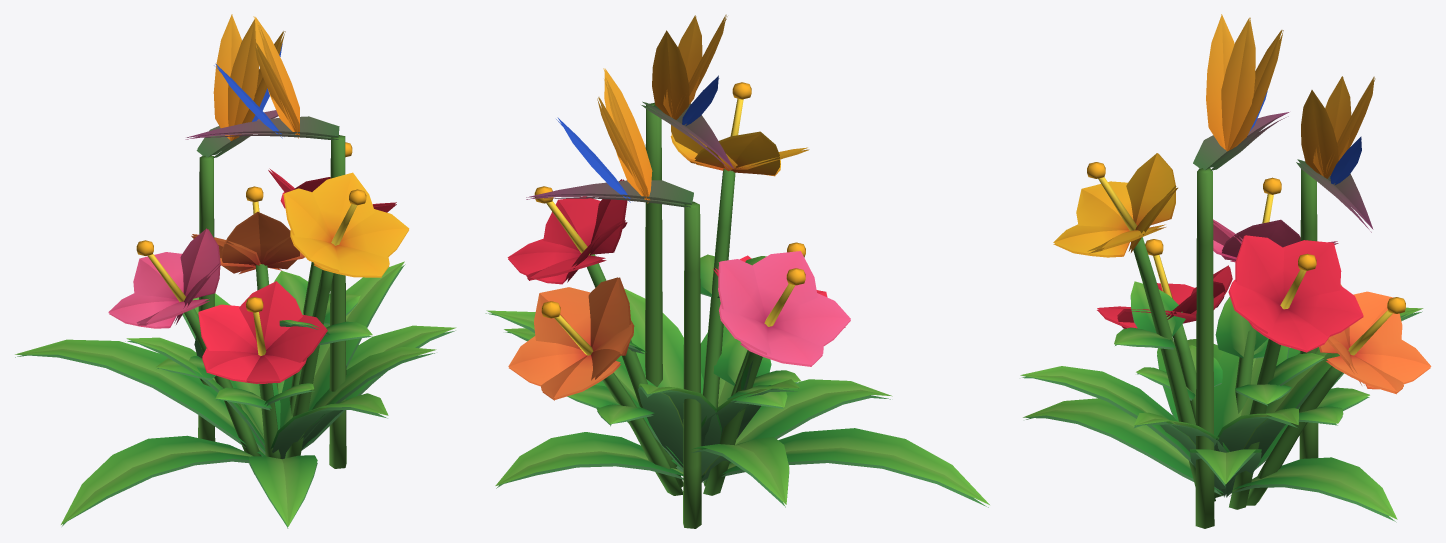
The model's file is flowers.glb.
3 renders of one model, left to right at view 1: azimuth 30°, elevation 25°; view 2: azimuth 150°, elevation 25°; view 3: azimuth 270°, elevation 25°, orthographic. The views are drawn at different scales.
Visible parts, largest first — view 1: flowers_mesh; view 2: flowers_mesh; view 3: flowers_mesh.
Boxes of the visible parts, bbox=[...] form: flowers_mesh: bbox=[15, 14, 456, 528]; flowers_mesh: bbox=[485, 14, 989, 528]; flowers_mesh: bbox=[1020, 14, 1431, 528].
Size of the model in its own units: 1.26 by 1.26 by 0.9906.
